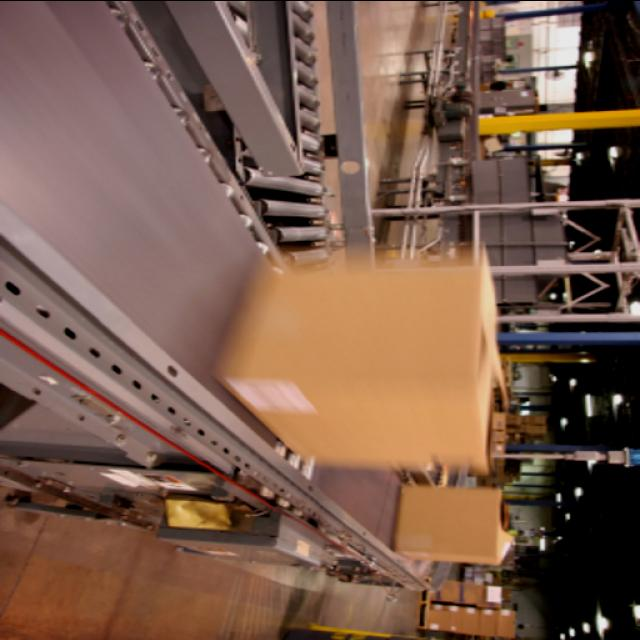conveyor: (0, 0, 438, 572)
